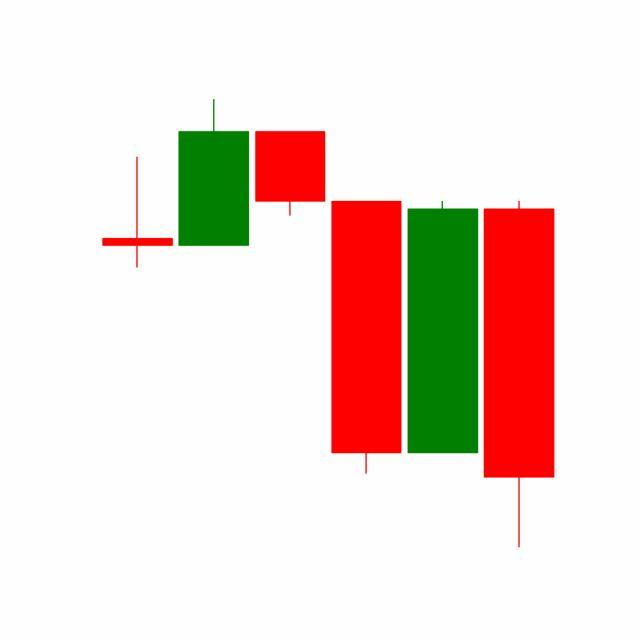Marubozu: (404, 198, 482, 456)
